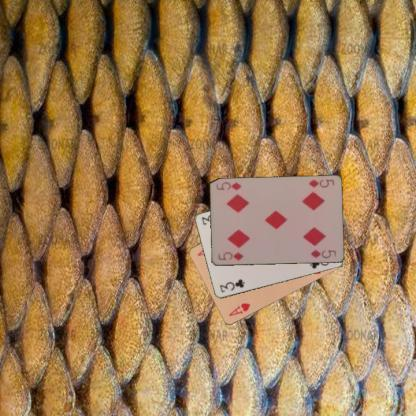3c: (217, 276, 246, 294)
5d: (306, 176, 335, 190), (216, 250, 245, 262)
Ah: (226, 300, 251, 318)
